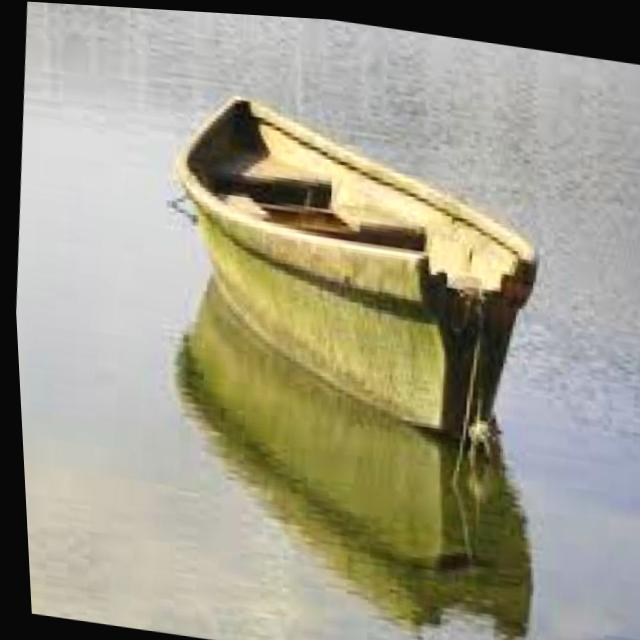ship2: (173, 96, 535, 430)
